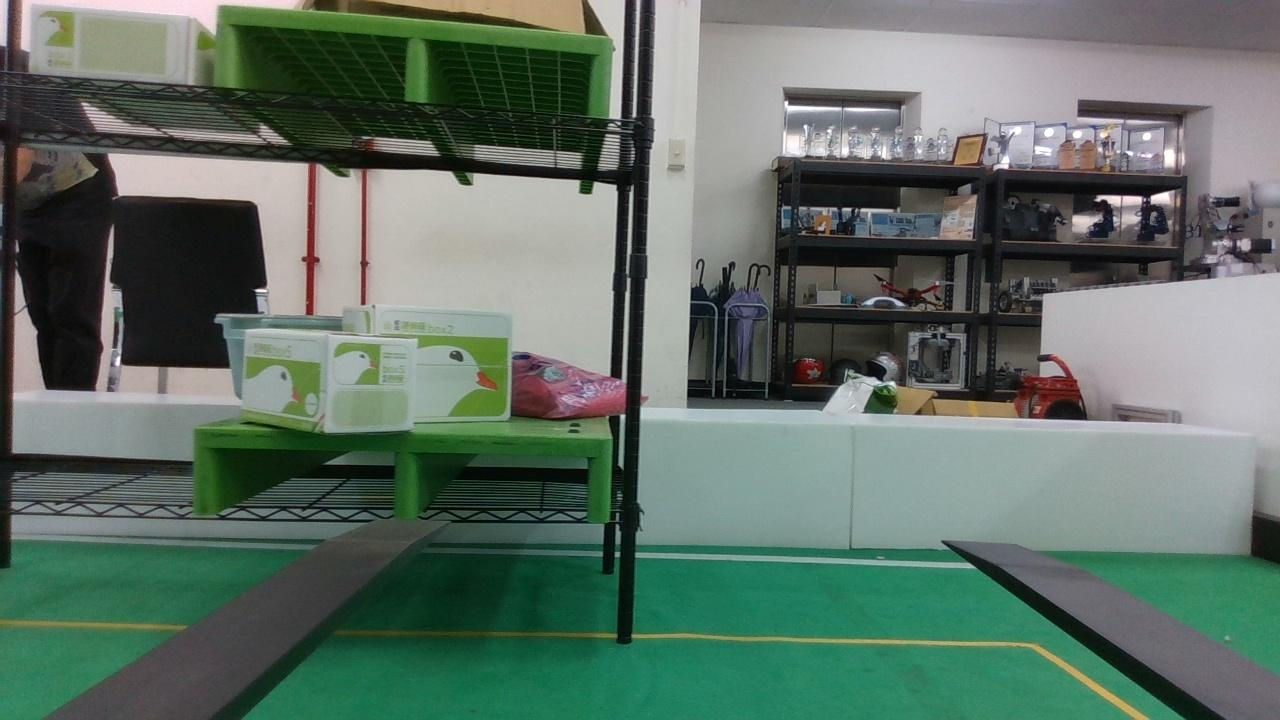Pallet: (210, 6, 618, 116), (190, 427, 614, 525)
